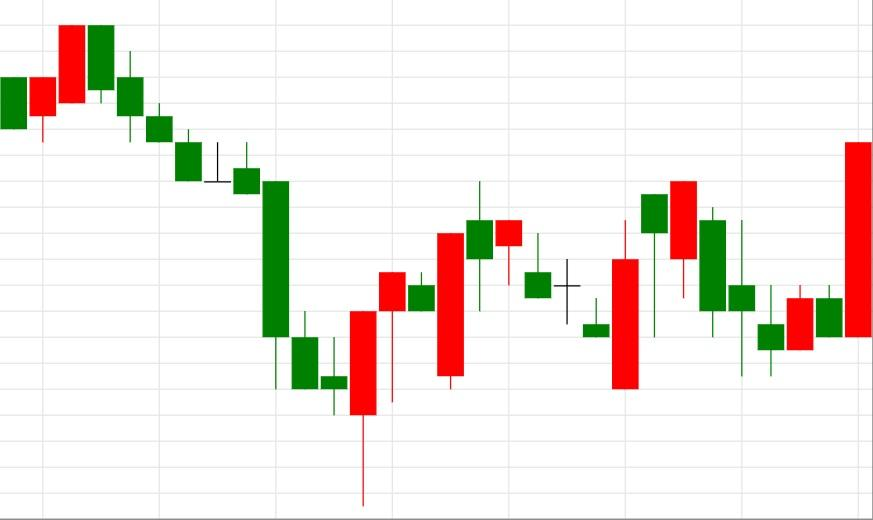bullish_engulfing_rise: (58, 25, 377, 506), (466, 180, 640, 390)
